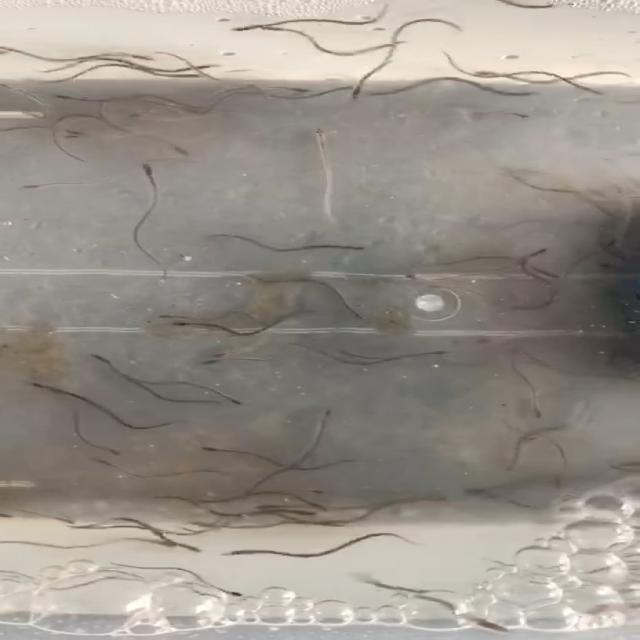active_glass_eel: (308, 124, 338, 147), (264, 81, 312, 95), (512, 84, 548, 102), (248, 18, 286, 35), (470, 619, 513, 634), (181, 58, 223, 73), (204, 346, 236, 364), (340, 85, 370, 104), (8, 181, 50, 193), (161, 316, 197, 330), (349, 307, 378, 324), (54, 126, 91, 139), (230, 19, 262, 34), (50, 91, 80, 107), (185, 518, 228, 529), (54, 133, 90, 146), (312, 406, 337, 424), (84, 350, 114, 365), (467, 68, 499, 82), (138, 160, 160, 180), (85, 454, 116, 468), (169, 144, 196, 160), (140, 314, 168, 329), (546, 476, 570, 493), (197, 445, 230, 457), (582, 86, 610, 100), (220, 546, 252, 558), (121, 52, 155, 63), (212, 586, 243, 598), (530, 242, 556, 256), (422, 346, 449, 359), (425, 492, 452, 505), (125, 112, 154, 124), (29, 379, 52, 394), (99, 442, 122, 457), (525, 402, 545, 419), (592, 258, 618, 271), (598, 236, 622, 250), (503, 110, 536, 120), (345, 244, 371, 256), (310, 499, 334, 512), (500, 172, 524, 185), (252, 502, 286, 511), (194, 358, 223, 368), (493, 402, 510, 419), (51, 515, 76, 526), (294, 509, 324, 518), (223, 394, 247, 405), (183, 543, 209, 553), (305, 487, 327, 498), (158, 540, 178, 552), (539, 271, 563, 279), (0, 508, 14, 521)
